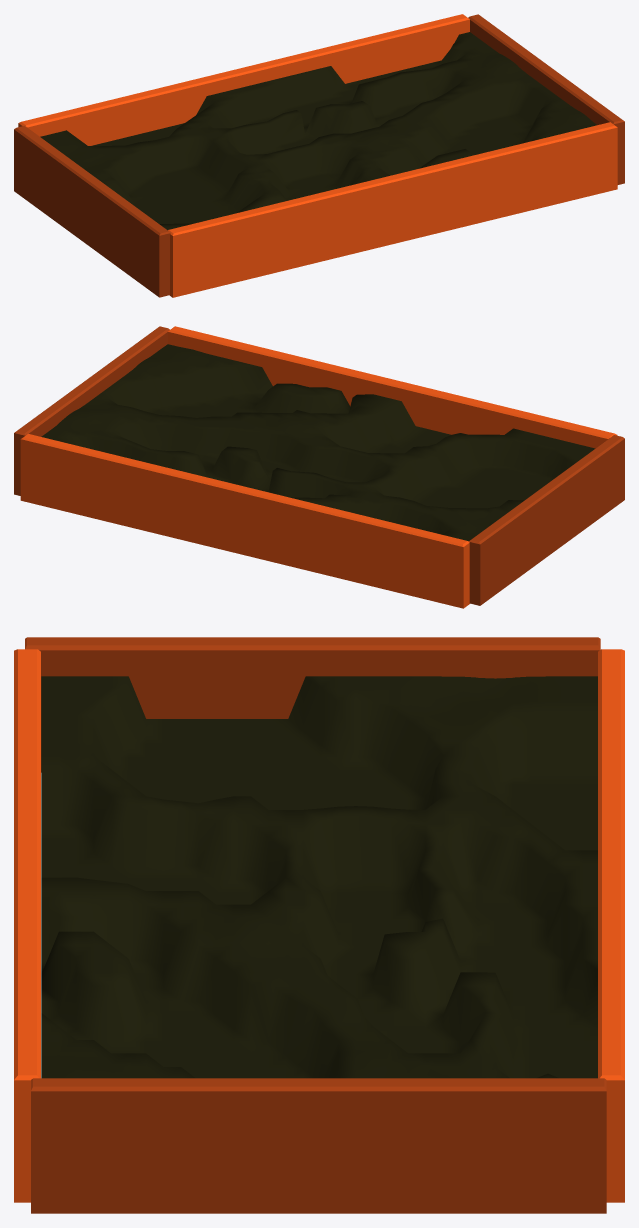
Rendered from 3D_ENVSB_001.FBX.
The picture shows the model from 3 angles, top to bottom: view 1: azimuth 30°, elevation 25°; view 2: azimuth 150°, elevation 25°; view 3: azimuth 270°, elevation 25°; orthographic projection. The views are drawn at different scales.
Parts seen in each view (by area): view 1: SandboxSand, WoodplanksLong001, WoodplanksLong, WoodplanksShort001, WoodplanksShort; view 2: SandboxSand, WoodplanksLong, WoodplanksLong001, WoodplanksShort001, WoodplanksShort; view 3: SandboxSand, WoodplanksShort, WoodplanksShort001, WoodplanksLong, WoodplanksLong001.
Part boxes in pixels (x1,y1,x2,y2): SandboxSand: [40, 32, 596, 230]; WoodplanksLong001: [168, 122, 617, 297]; WoodplanksLong: [18, 14, 469, 145]; WoodplanksShort001: [14, 126, 170, 297]; WoodplanksShort: [468, 14, 624, 184]; SandboxSand: [41, 344, 595, 541]; WoodplanksLong: [20, 434, 469, 608]; WoodplanksLong001: [168, 326, 617, 448]; WoodplanksShort001: [469, 435, 624, 605]; WoodplanksShort: [14, 326, 169, 495]; SandboxSand: [41, 676, 597, 1078]; WoodplanksShort: [31, 1078, 606, 1213]; WoodplanksShort001: [25, 637, 600, 772]; WoodplanksLong: [598, 649, 624, 1202]; WoodplanksLong001: [14, 649, 40, 1202].
Bounding box in the file's own units: 1381 × 181 × 791.
